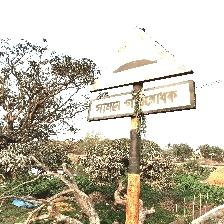Speed-breaker: (87, 27, 198, 123)
